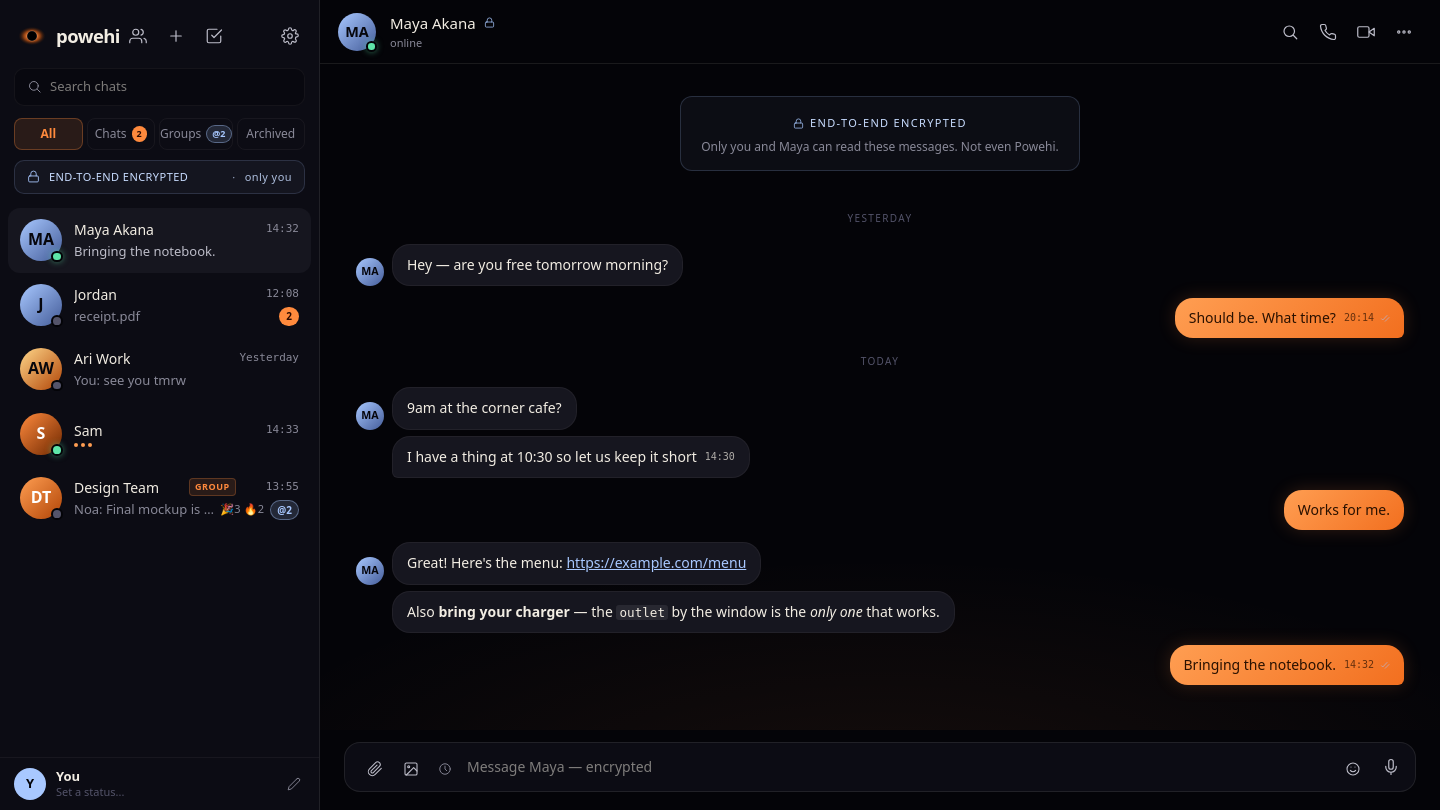
Scenario: ChatLayout — mark all as read › Chats tab unread badge is cleared by mark-all-read
The width and height of the screenshot is (1440, 810).
Note: Switch to the DMs (Chats) tab and verify Jordan's unread badge is visible.
Click the button with test id "filter-tab-dms".
click(121, 134)  # box [86,118,155,150]
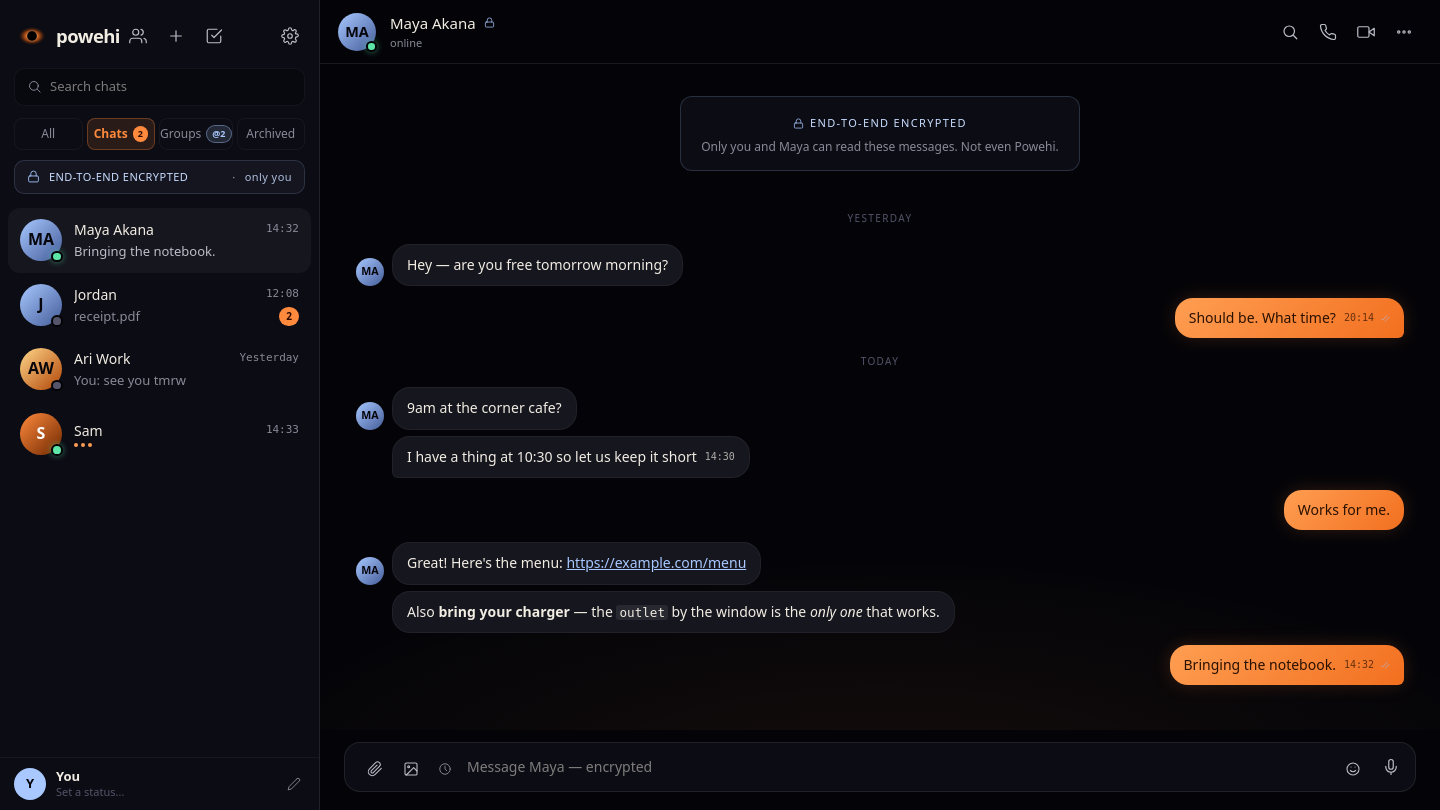
Expected: the text with test id "unread-badge" is shown, [279,307,299,326]
Click the button named "mark all as read".
click(214, 36)  # box [196,18,232,54]
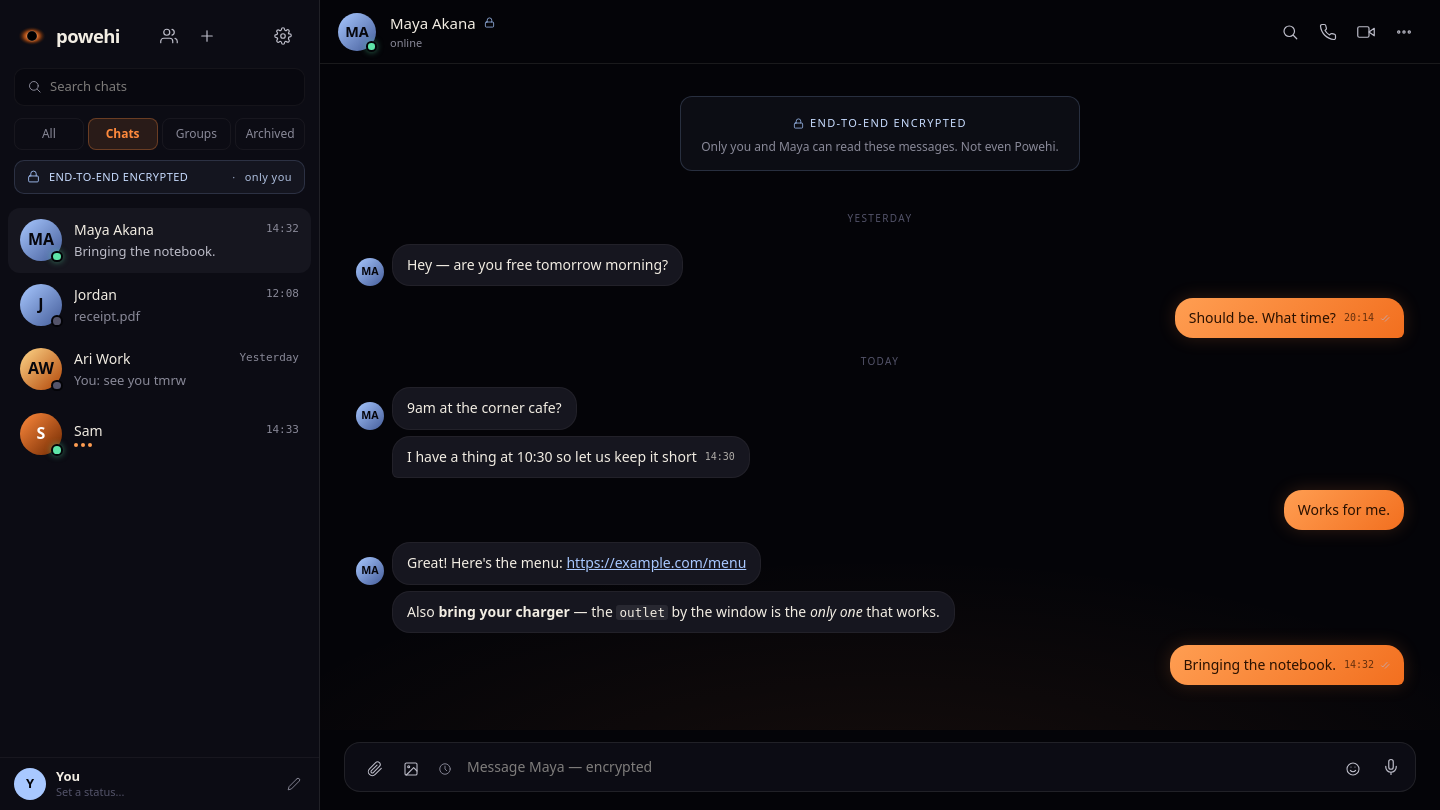
Now no elements with test id "unread-badge" are shown
